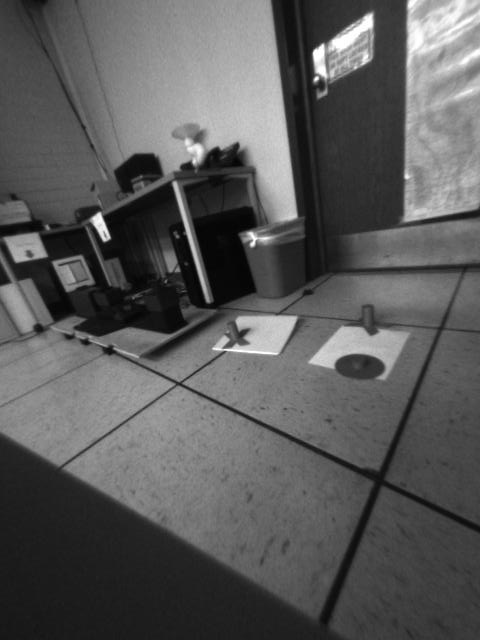X: (339, 303, 397, 336), (220, 322, 248, 349)
